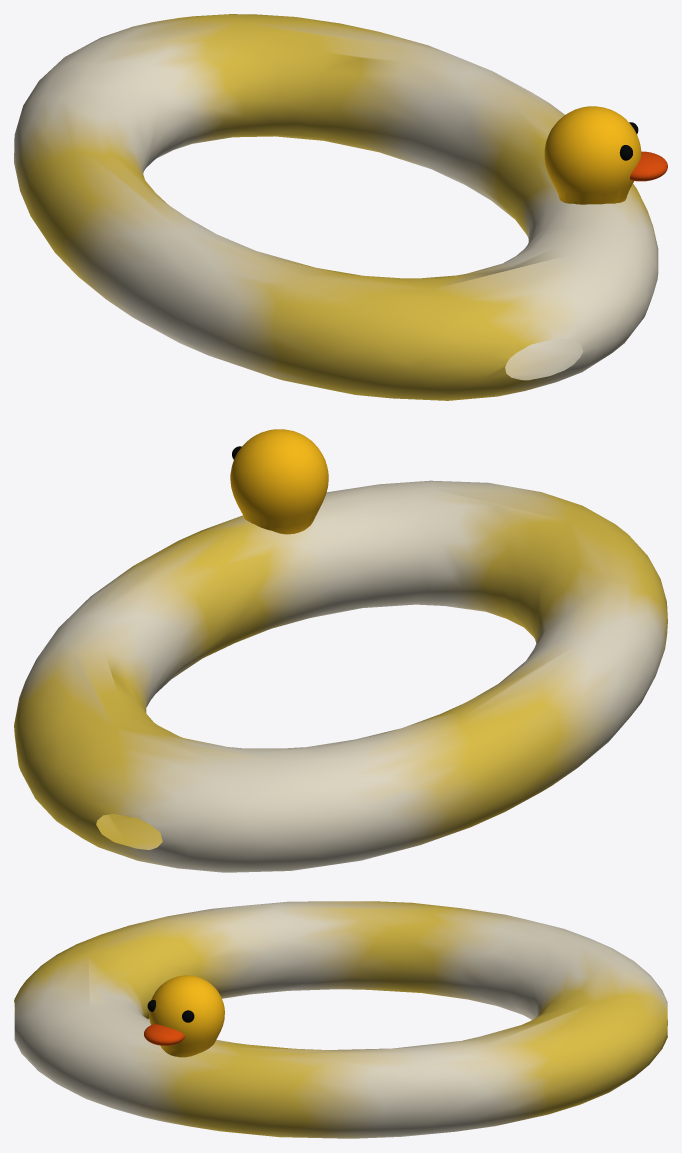
The model's file is phaovit.glb.
The picture shows the model from 3 angles, top to bottom: view 1: azimuth 30°, elevation 25°; view 2: azimuth 150°, elevation 25°; view 3: azimuth 270°, elevation 25°; orthographic projection. The views are drawn at different scales.
Visible parts, largest first — view 1: Phao, Vit, Mo_Vit; view 2: Phao, Vit; view 3: Phao, Vit, Mo_Vit.
Part boxes in pixels (bbox=[...]): Phao: bbox=[14, 14, 658, 400]; Vit: bbox=[544, 106, 641, 204]; Mo_Vit: bbox=[630, 151, 667, 181]; Phao: bbox=[14, 480, 667, 872]; Vit: bbox=[230, 429, 328, 534]; Phao: bbox=[14, 901, 667, 1138]; Vit: bbox=[149, 975, 224, 1057]; Mo_Vit: bbox=[144, 1024, 184, 1045].
Size of the model in its own units: 0.4191 by 0.1483 by 0.6195.
